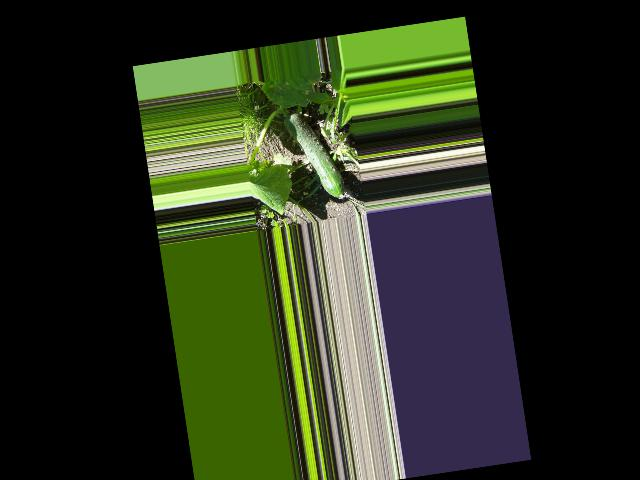cucumber: (282, 105, 346, 205)
